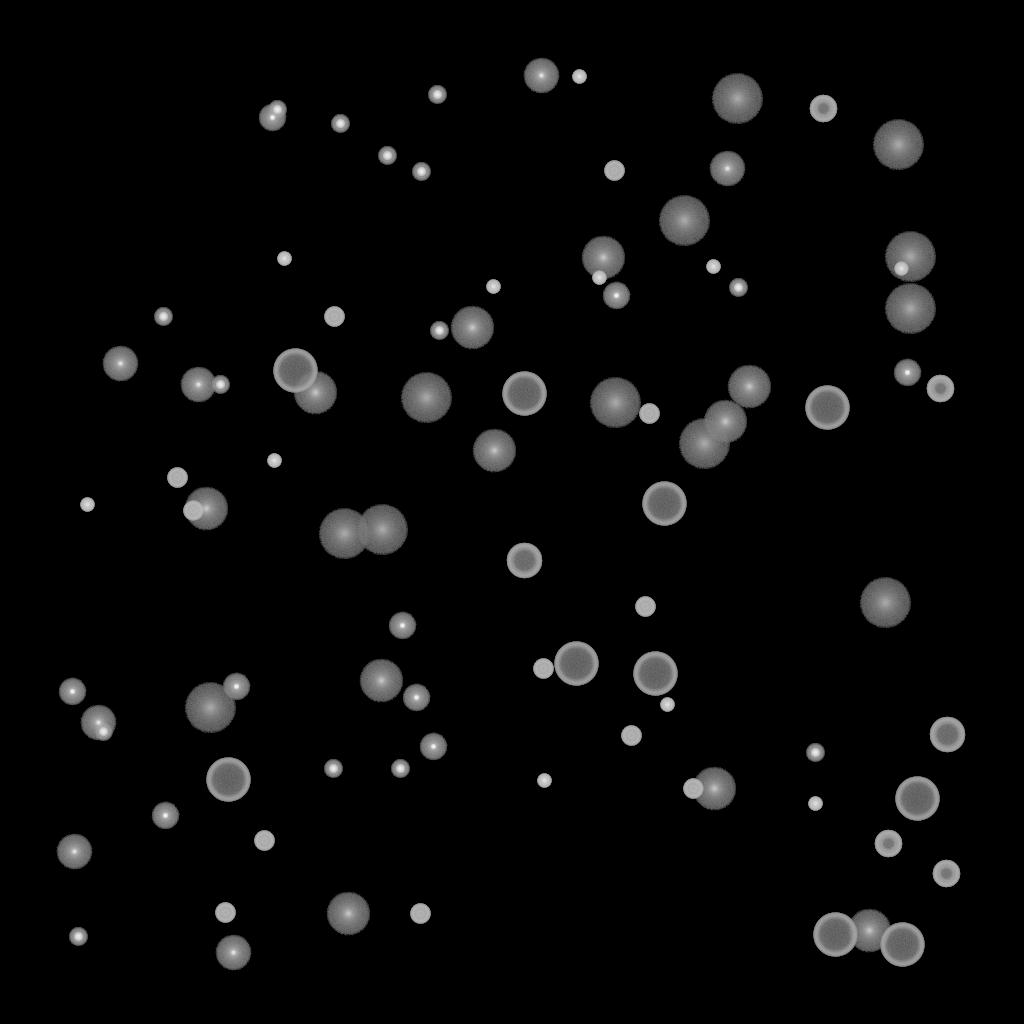depth:-10: (419, 733, 447, 761), (258, 104, 286, 132), (151, 802, 179, 830), (402, 684, 430, 712), (222, 673, 250, 701), (58, 678, 86, 706), (388, 612, 416, 640), (602, 282, 630, 310), (893, 359, 921, 387)
depth:-20: (391, 760, 409, 778), (69, 928, 87, 946), (268, 101, 286, 119), (428, 86, 446, 104), (324, 760, 342, 778), (378, 147, 396, 165), (430, 322, 448, 340), (154, 308, 172, 326), (412, 163, 430, 181), (806, 744, 824, 762), (94, 723, 112, 741), (211, 376, 229, 394), (729, 279, 747, 297), (331, 115, 349, 133)
depth:-30: (277, 252, 291, 266), (486, 280, 500, 294), (706, 260, 720, 274), (592, 271, 606, 285), (808, 797, 822, 811), (80, 498, 94, 512), (894, 262, 908, 276), (660, 698, 674, 712), (572, 70, 586, 84), (267, 454, 281, 468), (537, 774, 551, 788)
depth:-40: (639, 404, 659, 424), (215, 903, 235, 923), (635, 597, 655, 617), (254, 831, 274, 851), (183, 501, 203, 521), (324, 307, 344, 327), (621, 726, 641, 746), (604, 161, 624, 181), (167, 468, 187, 488), (410, 904, 430, 924), (683, 779, 703, 799), (533, 659, 553, 679)
depth:-50: (926, 375, 954, 403), (809, 95, 837, 123), (932, 860, 960, 888), (874, 830, 902, 858)
depth:-60: (506, 543, 542, 579), (929, 717, 965, 753)
depth:-70: (813, 913, 857, 957), (895, 777, 939, 821), (554, 642, 598, 686), (633, 652, 677, 696), (805, 386, 849, 430), (206, 758, 250, 802), (273, 349, 317, 393), (502, 372, 546, 416), (642, 482, 686, 526), (880, 923, 924, 967)
depth:0: (56, 834, 92, 870), (215, 935, 251, 971), (709, 151, 745, 187), (80, 705, 116, 741), (523, 58, 559, 94), (180, 367, 216, 403), (102, 346, 138, 382)
depth:10: (727, 365, 771, 409), (359, 659, 403, 703), (703, 400, 747, 444), (472, 429, 516, 473), (450, 306, 494, 350), (184, 487, 228, 531), (293, 371, 337, 415), (581, 236, 625, 280), (847, 909, 891, 953), (326, 892, 370, 936), (692, 767, 736, 811)
depth:20: (859, 578, 911, 628), (589, 378, 641, 428), (400, 373, 452, 423), (711, 74, 763, 124), (678, 419, 730, 469), (884, 284, 936, 334), (658, 196, 710, 246), (356, 505, 408, 555), (872, 120, 924, 170), (884, 232, 936, 282), (184, 683, 236, 733), (318, 509, 370, 559)
